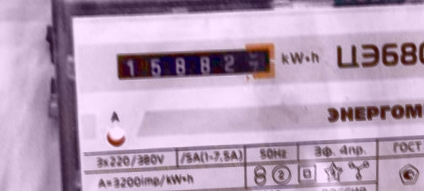1: (124, 57, 136, 76)
2: (223, 53, 235, 72)
5: (149, 56, 161, 76)
7: (248, 59, 259, 73)
8: (174, 55, 186, 76), (199, 54, 211, 75)
screen: (108, 38, 284, 87)
